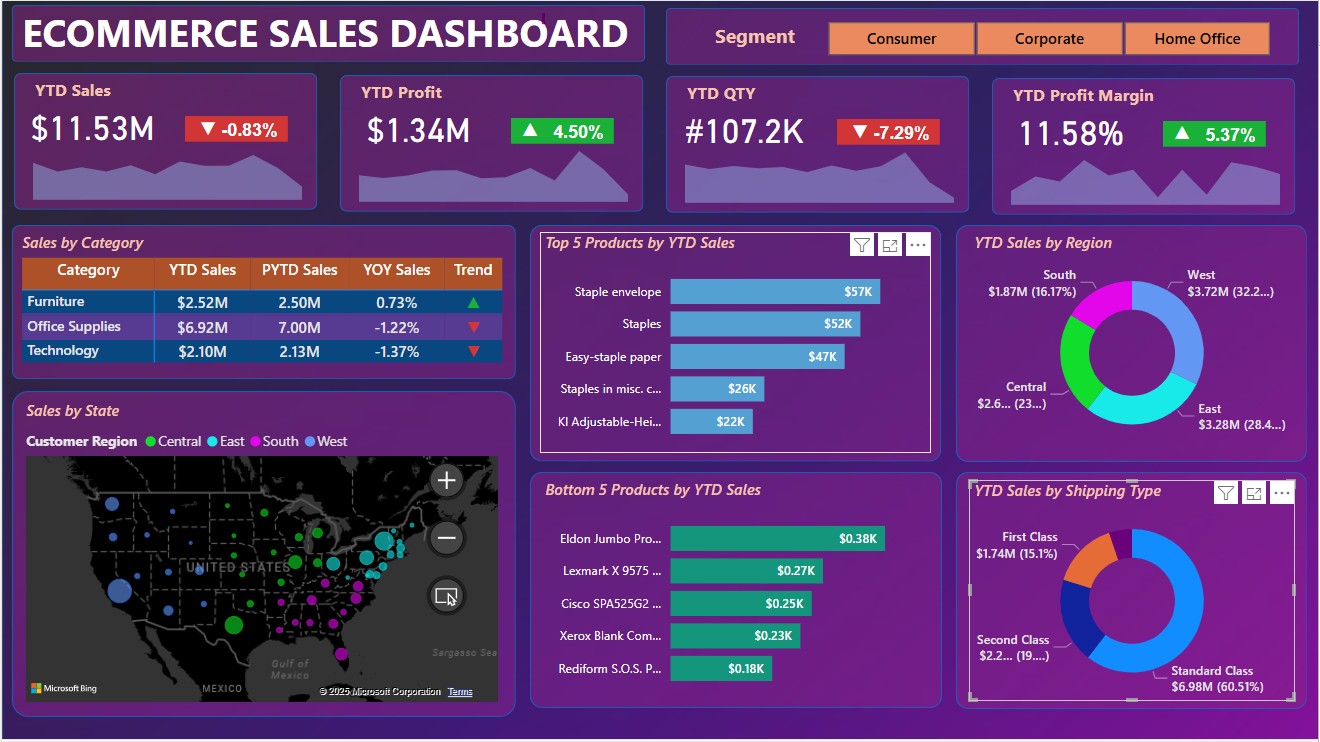

The dashboard page shown, as its layout file describes it:
{"tool":"powerbi","page":{"name":"Page 1","canvas":[1280,720],"ordinal":0},"visuals":[{"type":"shape","box":[9.7,3.9,615.7,55.4],"z":0},{"type":"textbox","box":[14.6,0,608.9,62.2],"z":1000},{"type":"shape","box":[11.7,70,295,133],"z":2000},{"type":"card","fields":{"Values":["ecommerce_data.YTD Sales"]},"box":[18.5,98.2,139.1,46.7],"z":3000},{"type":"shape","box":[178,111.9,100.2,25.3],"z":4000},{"type":"areaChart","fields":{"Category":["Calendar.month"],"Y":["Sum(ecommerce_data.sales_per_order)"]},"box":[15.6,128.4,290.8,70],"z":5000},{"type":"card","fields":{"Values":["ecommerce_data.YOY Sales"]},"box":[203,112,75,25],"z":6000},{"type":"card","fields":{"Values":["ecommerce_data.Sales icon"]},"box":[184,112,33,26],"z":7000},{"type":"textbox","box":[27.2,70,142,32.1],"z":8000},{"type":"shape","box":[328.7,72,295,133],"z":9000},{"type":"shape","box":[495,113.9,100.2,25.3],"z":10000},{"type":"card","fields":{"Values":["ecommerce_data.YTD Profit"]},"box":[335.5,100.2,139.1,46.7],"z":11000},{"type":"areaChart","fields":{"Category":["Calendar.month"],"Y":["Sum(ecommerce_data.profit_per_order)"]},"box":[332.6,130.4,290.8,70],"z":12000},{"type":"card","fields":{"Values":["ecommerce_data.YOY Profit"]},"box":[526,114,69,25],"z":13000},{"type":"card","fields":{"Values":["ecommerce_data.Profit icon"]},"box":[501,113,25,26],"z":14000},{"type":"textbox","box":[344,72,100,32],"z":15000},{"type":"shape","box":[645.7,73,295,133],"z":16000},{"type":"card","fields":{"Values":["ecommerce_data.YTD concatenated Qty"]},"box":[652.5,101.2,139.1,46.7],"z":17000},{"type":"shape","box":[812,114.9,100.2,25.3],"z":18000},{"type":"areaChart","fields":{"Category":["Calendar.month"],"Y":["Sum(ecommerce_data.order_quantity)"]},"box":[649.6,131.4,290.8,70],"z":19000},{"type":"card","fields":{"Values":["ecommerce_data.YOY Qty"]},"box":[837,115,75,25],"z":20000},{"type":"card","fields":{"Values":["ecommerce_data.Qty icon"]},"box":[818,115,33,26],"z":21000},{"type":"textbox","box":[661.4,72.9,200.4,32.1],"z":22000},{"type":"shape","box":[962.7,75,295,133],"z":23000},{"type":"shape","box":[1129,116.9,100.2,25.3],"z":24000},{"type":"card","fields":{"Values":["ecommerce_data.YTD Profit Margin"]},"box":[969.5,103.2,139.1,46.7],"z":25000},{"type":"areaChart","fields":{"Category":["Calendar.month"],"Y":["ecommerce_data.Profit Margin"]},"box":[966.6,133.4,290.8,70],"z":26000},{"type":"card","fields":{"Values":["ecommerce_data.YOY Profit Margin"]},"box":[1160,117,69,25],"z":27000},{"type":"card","fields":{"Values":["ecommerce_data.Pofit Margin icon"]},"box":[1135,116,25,26],"z":28000},{"type":"textbox","box":[978,75,182,32],"z":29000},{"type":"shape","box":[10,218,490,150],"z":30000},{"type":"pivotTable","title":"Sales by Category","fields":{"Rows":["ecommerce_data.category_name"],"Values":["ecommerce_data.YTD Sales","ecommerce_data.PYTD Sales","ecommerce_data.YOY Sales","ecommerce_data.Sales icon"]},"box":[15,225,480,135],"z":31000},{"type":"shape","box":[10,379,490,317],"z":32000},{"type":"map","title":"Sales by State","fields":{"Y":["us_state_long_lat_codes.latitude"],"X":["us_state_long_lat_codes.longitude"],"Series":["ecommerce_data.customer_region"],"Size":["ecommerce_data.YTD Sales"]},"box":[18.5,388.1,468.8,299.6],"z":33000},{"type":"shape","box":[513.6,217.9,400,230],"z":34000},{"type":"shape","box":[513.6,458.1,400.7,229.5],"z":35000},{"type":"barChart","title":"Top 5 Products by YTD Sales ","fields":{"Category":["ecommerce_data.product_name"],"Y":["ecommerce_data.YTD Sales"]},"box":[523.3,224.7,380.3,215],"z":36000},{"type":"barChart","title":"Bottom 5 Products by YTD Sales ","fields":{"Category":["ecommerce_data.product_name"],"Y":["ecommerce_data.YTD Sales"]},"box":[523.3,464.9,380.3,215],"z":37000},{"type":"shape","box":[927.9,217.9,341.4,230.5],"z":37001},{"type":"shape","box":[927.9,458.1,341.4,230.5],"z":37002},{"type":"donutChart","title":"YTD Sales by Region","fields":{"Category":["ecommerce_data.customer_region"],"Y":["ecommerce_data.YTD Sales"]},"box":[940.5,224.7,317.1,215],"z":37003},{"type":"donutChart","title":"YTD Sales by Shipping Type","fields":{"Category":["ecommerce_data.shipping_type"],"Y":["ecommerce_data.YTD Sales"]},"box":[940.5,465.9,317.1,215],"z":37004},{"type":"shape","box":[645.8,6.8,615.7,55.4],"z":37005},{"type":"slicer","fields":{"Values":["ecommerce_data.customer_segment"]},"box":[778.1,13.6,479.5,45.7],"z":37006},{"type":"textbox","box":[661.4,15.6,142,38.9],"z":37007}]}

Visuals, with their boxes in screenshot pixels (x1, y1, x2, y2), scaled from the page's 1280x720 canvas onto the 1320x742 screenshot:
shape: BBox(10, 4, 645, 61)
textbox: BBox(15, 0, 643, 64)
shape: BBox(12, 72, 316, 209)
card - ecommerce_data.YTD Sales: BBox(19, 101, 163, 149)
shape: BBox(184, 115, 287, 141)
areaChart - Calendar.month x Sum(ecommerce_data.sales_per_order): BBox(16, 132, 316, 204)
card - ecommerce_data.YOY Sales: BBox(209, 115, 287, 141)
card - ecommerce_data.Sales icon: BBox(190, 115, 224, 142)
textbox: BBox(28, 72, 174, 105)
shape: BBox(339, 74, 643, 211)
shape: BBox(510, 117, 614, 143)
card - ecommerce_data.YTD Profit: BBox(346, 103, 489, 151)
areaChart - Calendar.month x Sum(ecommerce_data.profit_per_order): BBox(343, 134, 643, 207)
card - ecommerce_data.YOY Profit: BBox(542, 117, 614, 143)
card - ecommerce_data.Profit icon: BBox(517, 116, 542, 143)
textbox: BBox(355, 74, 458, 107)
shape: BBox(666, 75, 970, 212)
card - ecommerce_data.YTD concatenated Qty: BBox(673, 104, 816, 152)
shape: BBox(837, 118, 941, 144)
areaChart - Calendar.month x Sum(ecommerce_data.order_quantity): BBox(670, 135, 970, 208)
card - ecommerce_data.YOY Qty: BBox(863, 119, 940, 144)
card - ecommerce_data.Qty icon: BBox(844, 119, 878, 145)
textbox: BBox(682, 75, 889, 108)
shape: BBox(993, 77, 1297, 214)
shape: BBox(1164, 120, 1268, 147)
card - ecommerce_data.YTD Profit Margin: BBox(1000, 106, 1143, 154)
areaChart - Calendar.month x ecommerce_data.Profit Margin: BBox(997, 137, 1297, 210)
card - ecommerce_data.YOY Profit Margin: BBox(1196, 121, 1267, 146)
card - ecommerce_data.Pofit Margin icon: BBox(1170, 120, 1196, 146)
textbox: BBox(1009, 77, 1196, 110)
shape: BBox(10, 225, 516, 379)
"Sales by Category" pivotTable: BBox(15, 232, 510, 371)
shape: BBox(10, 391, 516, 717)
"Sales by State" map: BBox(19, 400, 503, 709)
shape: BBox(530, 225, 942, 462)
shape: BBox(530, 472, 943, 709)
"Top 5 Products by YTD Sales " barChart: BBox(540, 232, 932, 453)
"Bottom 5 Products by YTD Sales " barChart: BBox(540, 479, 932, 701)
shape: BBox(957, 225, 1309, 462)
shape: BBox(957, 472, 1309, 710)
"YTD Sales by Region" donutChart: BBox(970, 232, 1297, 453)
"YTD Sales by Shipping Type" donutChart: BBox(970, 480, 1297, 702)
shape: BBox(666, 7, 1301, 64)
slicer - ecommerce_data.customer_segment: BBox(802, 14, 1297, 61)
textbox: BBox(682, 16, 829, 56)
